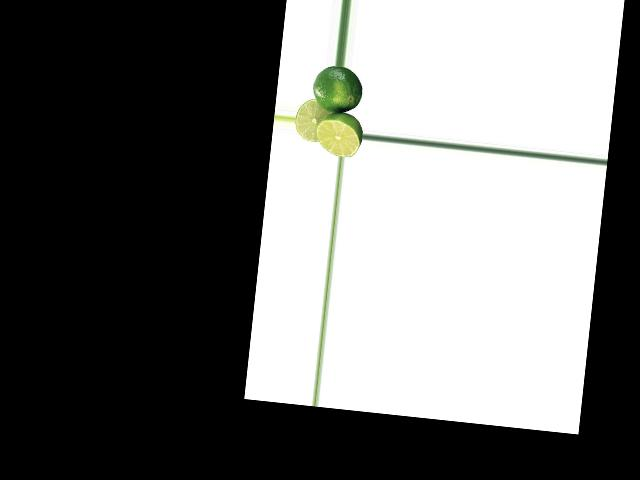lemon: (311, 64, 363, 117)
